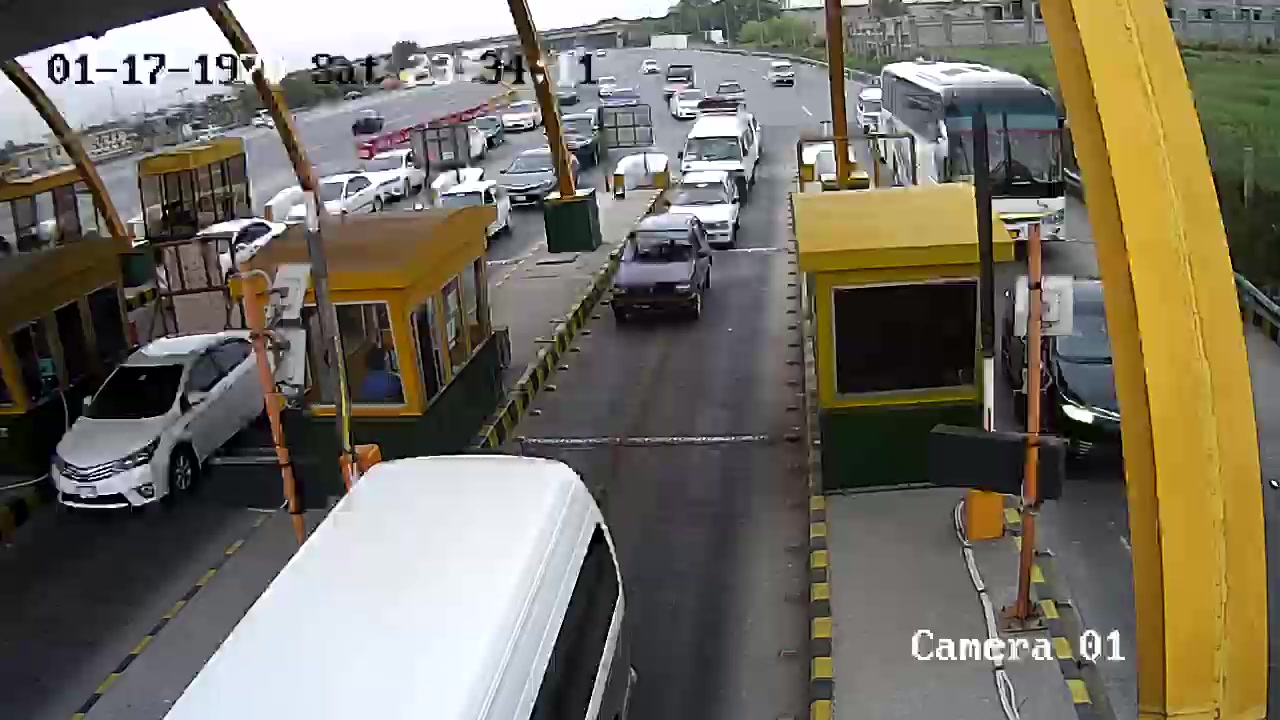F1: (607, 207, 718, 340)
